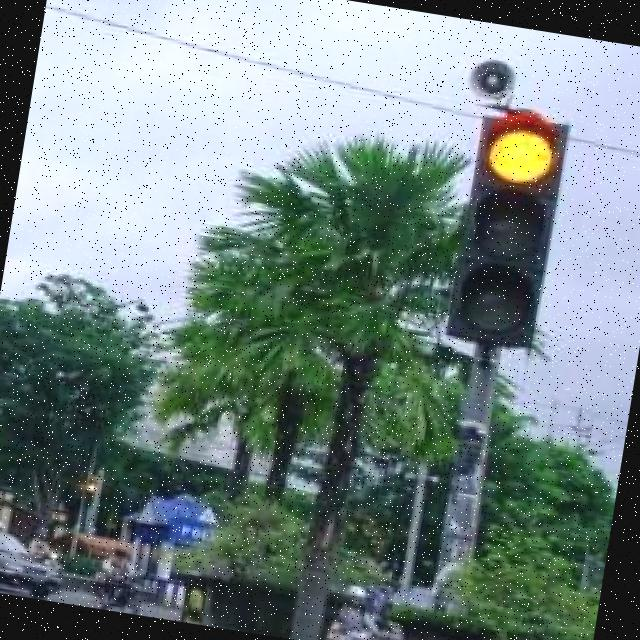Czerwone swiatlo: (444, 102, 573, 346)
